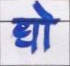e_matra: (32, 2, 55, 19)
